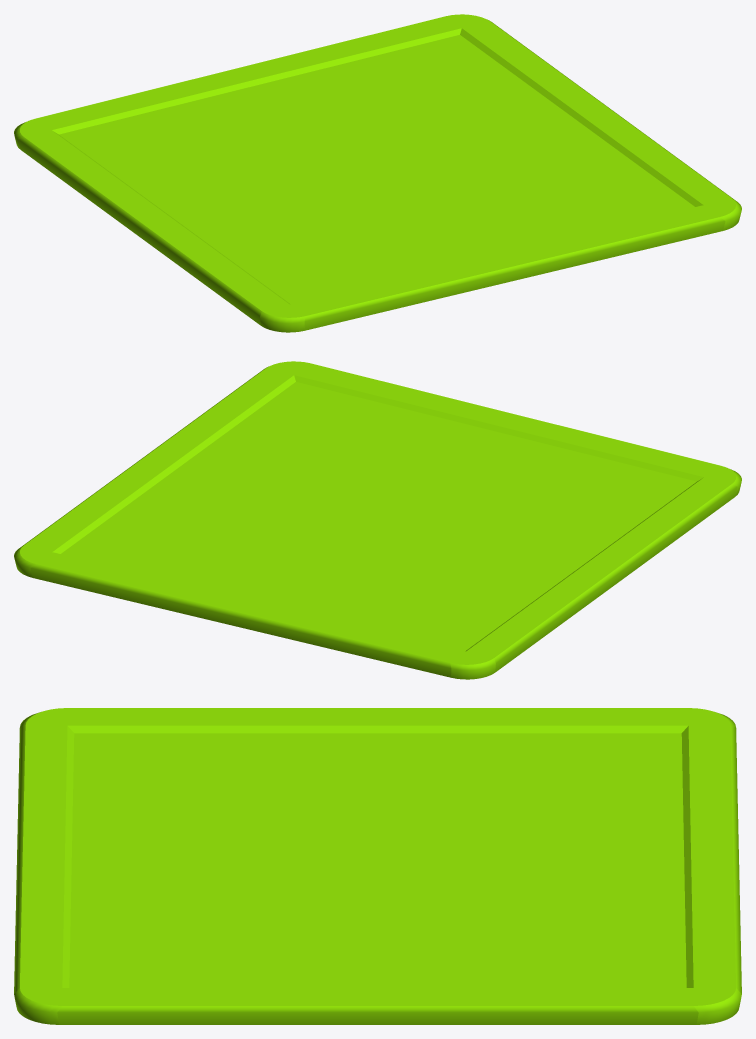
Rendered from Board_Sliding_01.fbx.
The picture shows the model from 3 angles, top to bottom: view 1: azimuth 30°, elevation 25°; view 2: azimuth 150°, elevation 25°; view 3: azimuth 270°, elevation 25°; orthographic projection. The views are drawn at different scales.
Visible parts, largest first — view 1: Board_Sliding_01; view 2: Board_Sliding_01; view 3: Board_Sliding_01.
Part boxes in pixels (box(x1,y1,x2,y2)): Board_Sliding_01: box(14, 14, 741, 332); Board_Sliding_01: box(14, 361, 741, 679); Board_Sliding_01: box(14, 708, 741, 1024).
Size of the model in its own units: 61.9 by 1.68 by 62.85.
